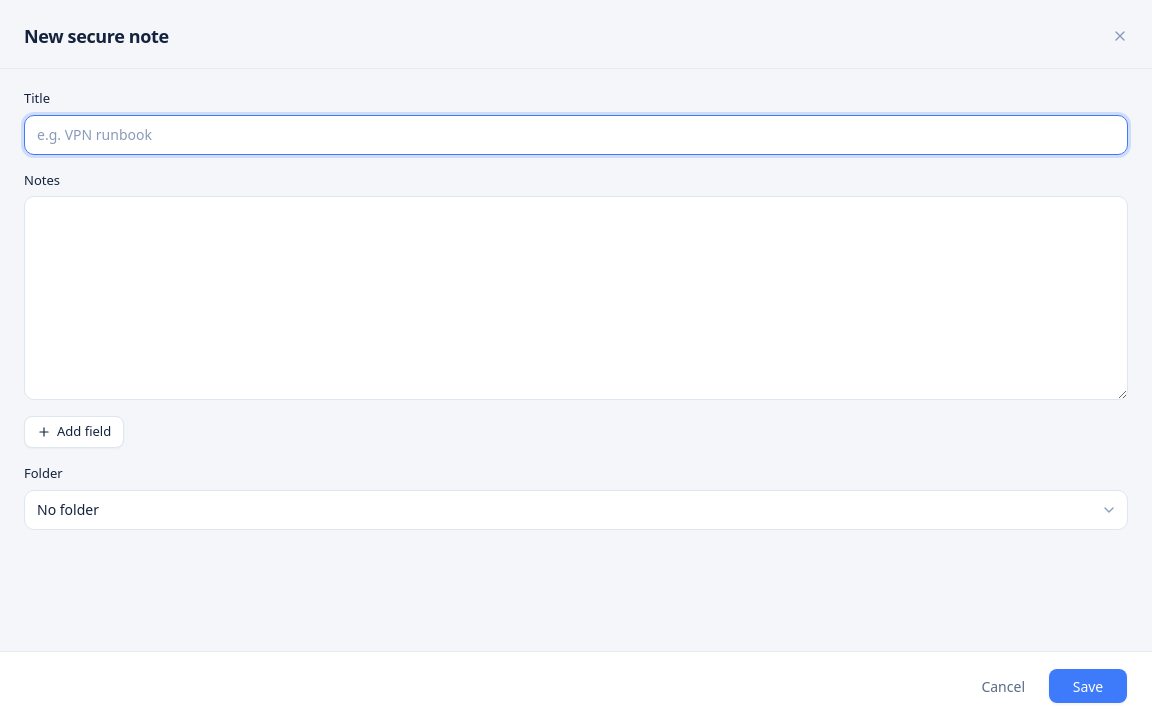
Scenario: RecordEditor › requires a title
Step 1. Click the button "Save" → (1088, 686), box top-left (1048, 668), bottom-right (1128, 704)
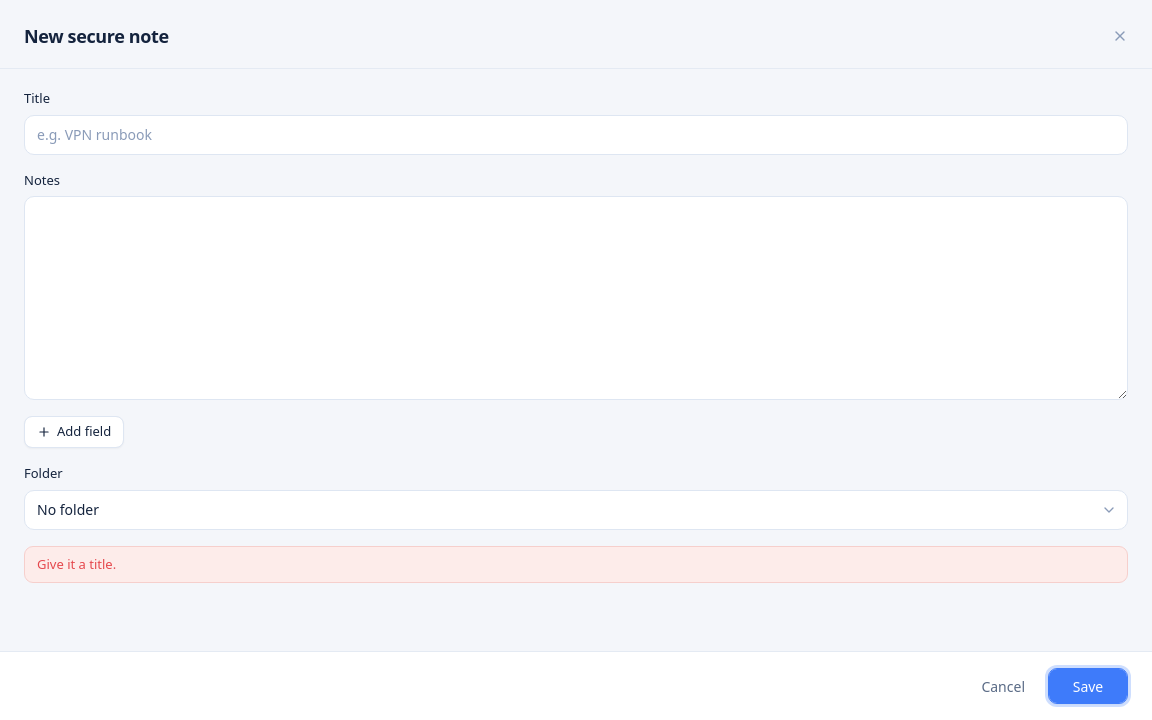
Result: the message reads "Give it a title." at top-left (37, 554), bottom-right (116, 572)
